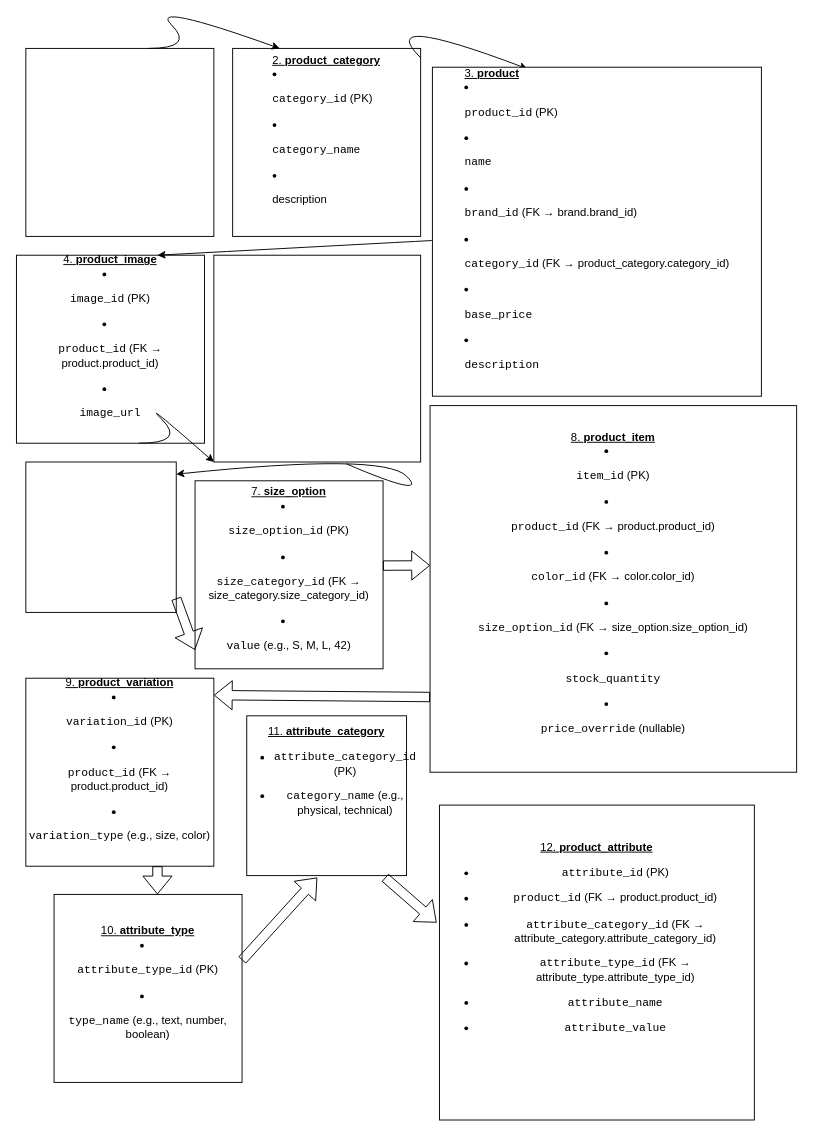
Image size: 813x1136. Some labels were removed from this diagram. Here are the shapes that lost their labels. From the top down, the centre of each, then its label:
the point at 119,141: 1. Brand brand_id (PK) Name Description
the point at 317,358: 5. color color_id (PK) color_name hex_value
the point at 100,536: 6. size_category size_category_id (PK) name (e.g., clothing, shoe)
